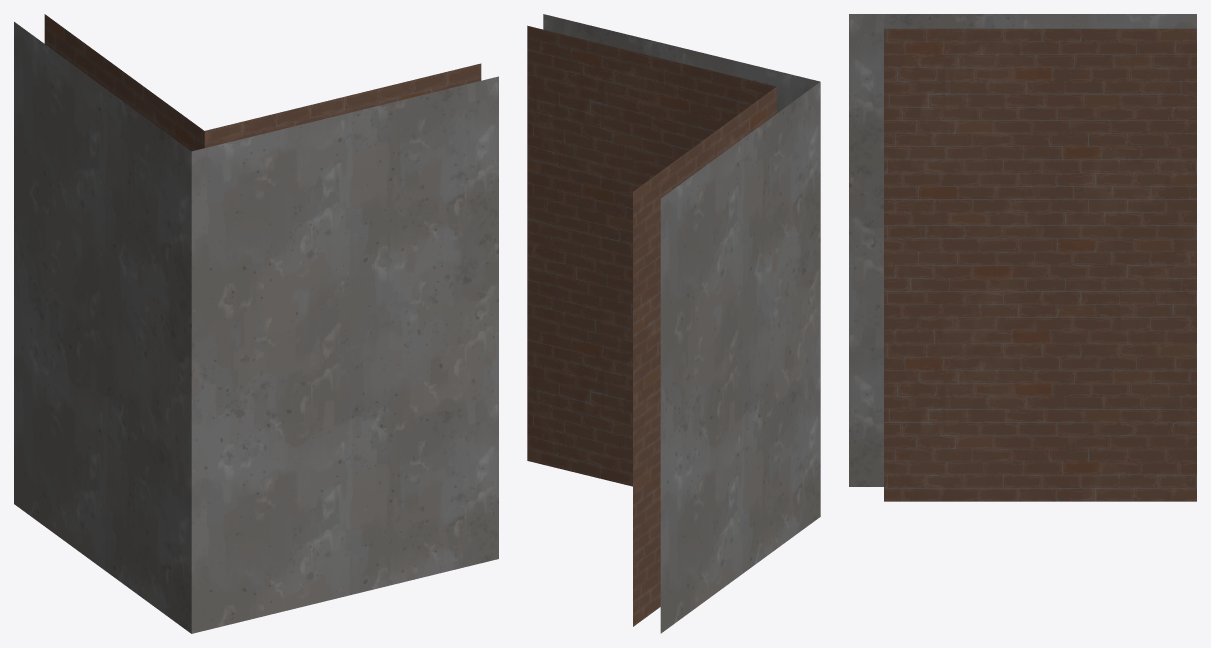
Rendered from Concrete_Corner.gltf.
3 views of the same model, side by side, from view 1: azimuth 30°, elevation 25°; view 2: azimuth 150°, elevation 25°; view 3: azimuth 270°, elevation 25° (orthographic). The views are drawn at different scales.
Parts seen in each view (by area): view 1: Concrete_Corner; view 2: Concrete_Corner; view 3: Concrete_Corner.
Part boxes in pixels (<box>): Concrete_Corner: <box>14,14,498,633</box>; Concrete_Corner: <box>527,14,820,633</box>; Concrete_Corner: <box>849,14,1196,501</box>.
Bounding box in the file's own units: 2 × 3 × 2.
2 materials, 2 textured.
